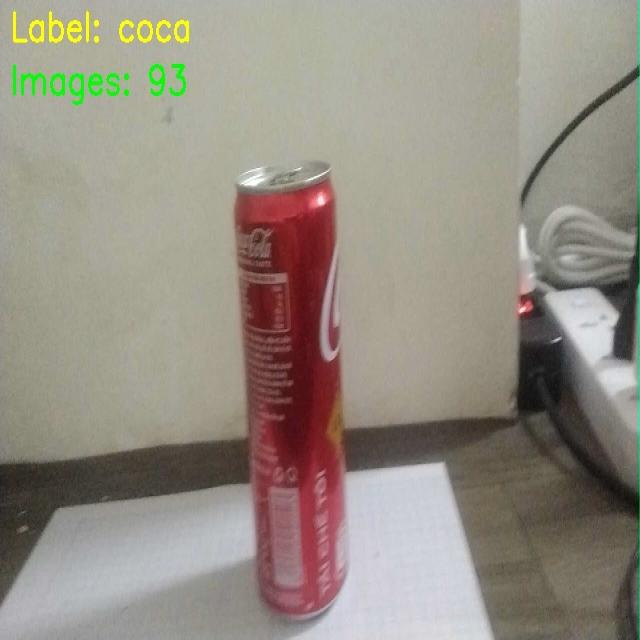Coca: (205, 140, 398, 634)
